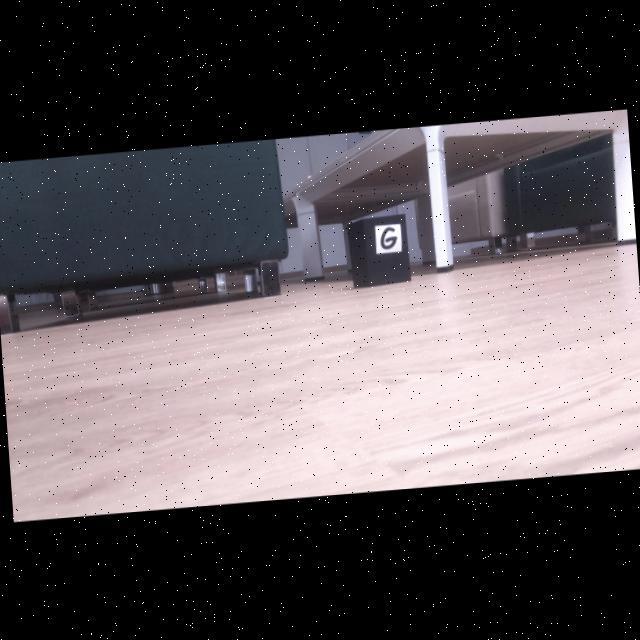G: (380, 228, 397, 250)
